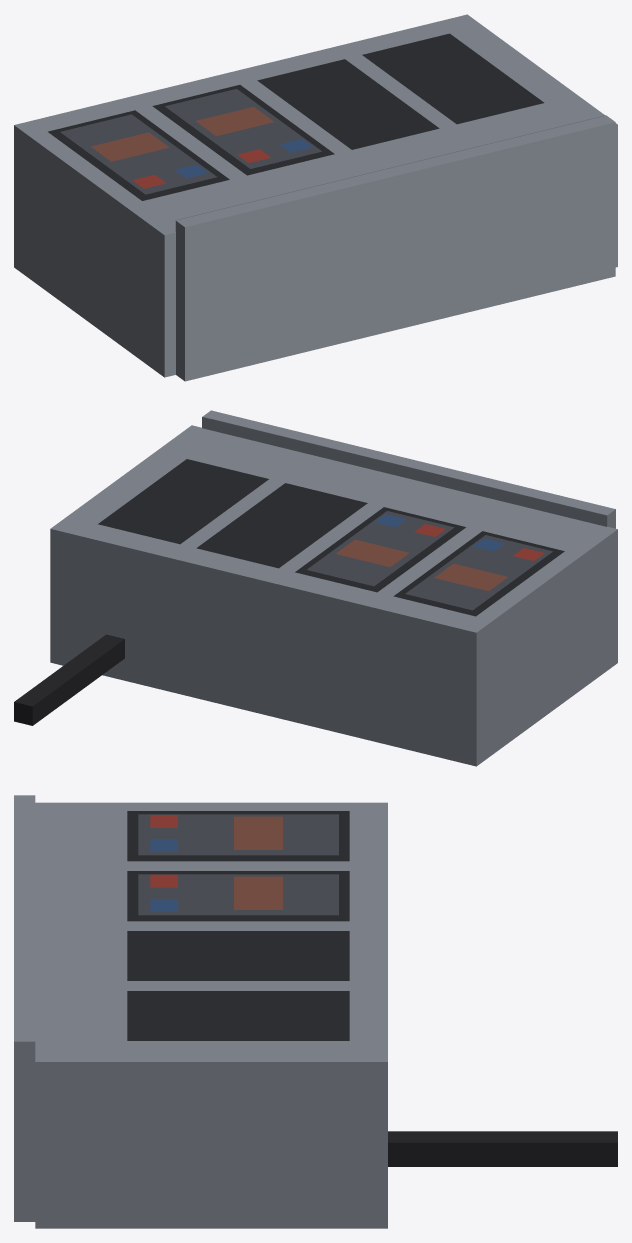
File: bank_wall_premium_c2_S.obj
3 views of the same model, one above another, from view 1: azimuth 30°, elevation 25°; view 2: azimuth 150°, elevation 25°; view 3: azimuth 270°, elevation 25° (orthographic). The views are drawn at different scales.
Parts seen in each view (by area): view 1: bank_wall_premium_c2_S; view 2: bank_wall_premium_c2_S; view 3: bank_wall_premium_c2_S.
Boxes of the visible parts, x1,y1,x2,y2 form: bank_wall_premium_c2_S: [14, 14, 617, 381]; bank_wall_premium_c2_S: [14, 410, 617, 766]; bank_wall_premium_c2_S: [14, 795, 617, 1228].
Bounding box in the file's own units: 0.8 × 0.2635 × 0.788.
1 material, 1 textured.
